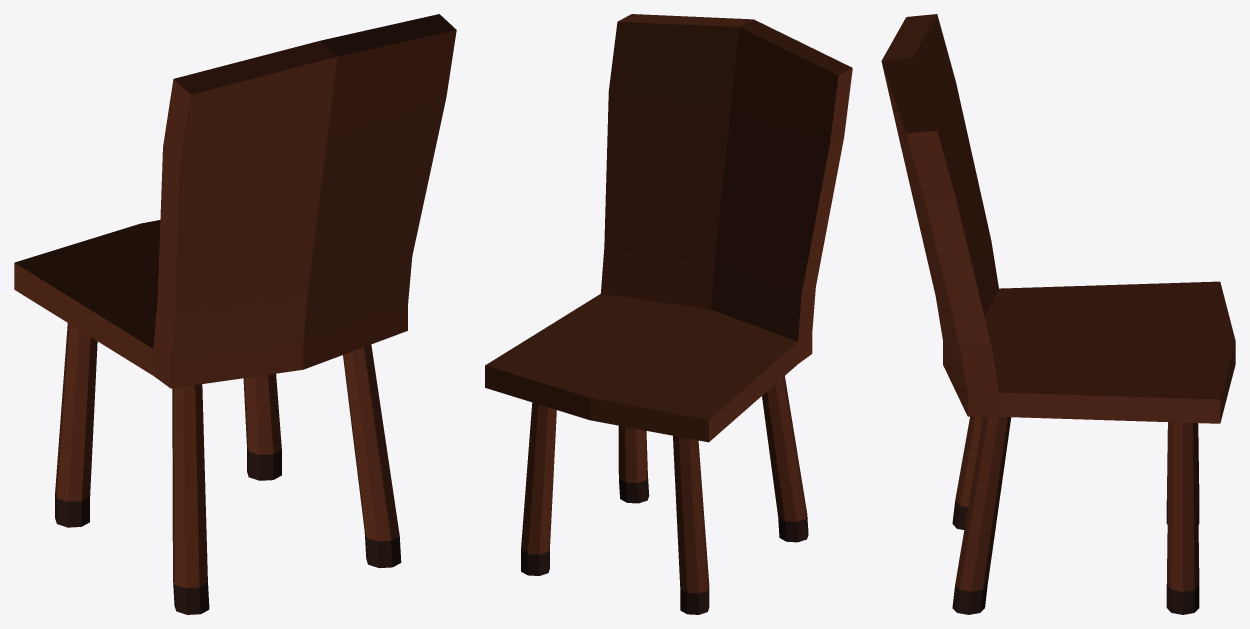
File: Chair 6.fbx
3 views of the same model, side by side, from view 1: azimuth 30°, elevation 25°; view 2: azimuth 150°, elevation 25°; view 3: azimuth 270°, elevation 25° (orthographic). The views are drawn at different scales.
Parts seen in each view (by area): view 1: Node 0; view 2: Node 0; view 3: Node 0.
Part boxes in pixels (x1,y1,x2,y2): Node 0: (14,14,456,614); Node 0: (485,14,852,614); Node 0: (881,14,1235,614).
Bounding box in the file's own units: 0.5422 × 0.8591 × 0.4276.
